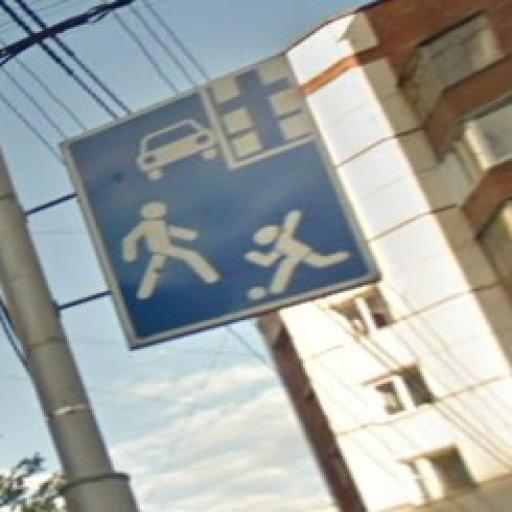traffic_sign: (60, 53, 382, 354)
